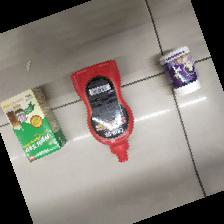Chinsu: (70, 59, 135, 164)
NSPN_Hop: (2, 89, 66, 162)
Xylitol_BTS: (159, 46, 202, 99)
